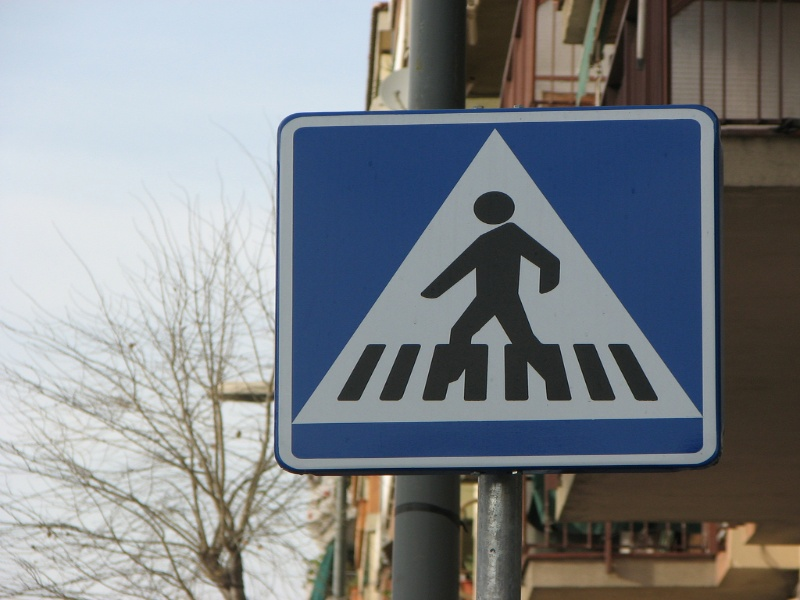pedestrian_crossing_ahead: (290, 122, 705, 459)
